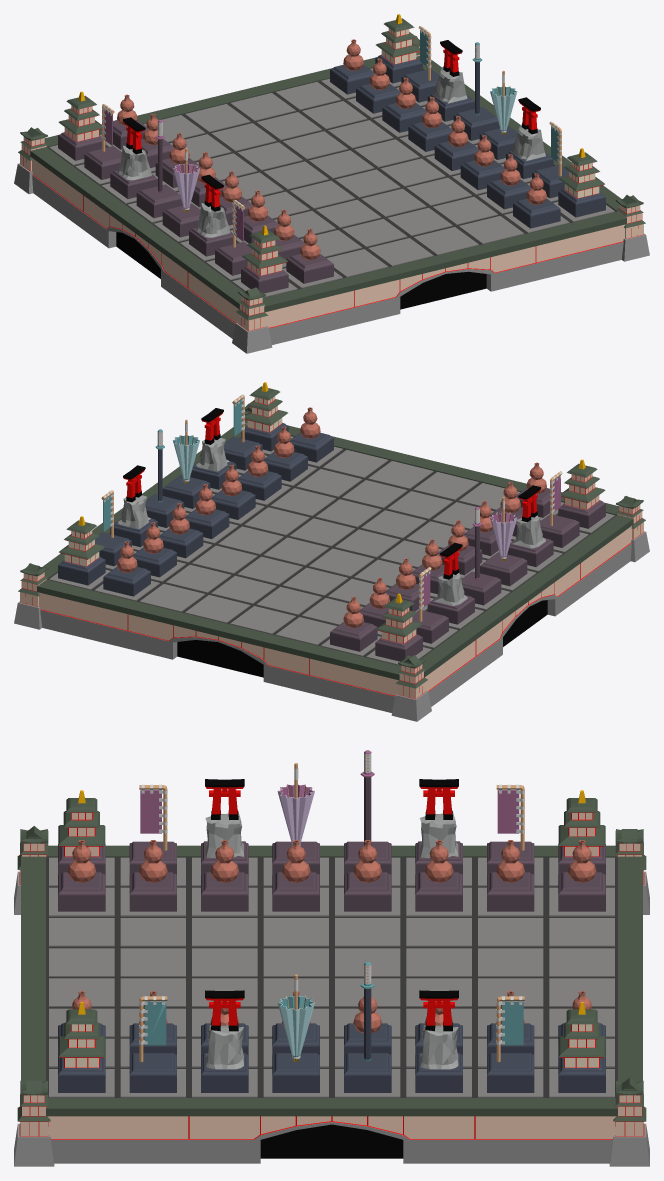
The model's file is FinalBoard(FinalBoard).fbx.
3 views of the same model, one above another, from view 1: azimuth 30°, elevation 25°; view 2: azimuth 150°, elevation 25°; view 3: azimuth 270°, elevation 25° (orthographic). The views are drawn at different scales.
Parts seen in each view (by area): view 1: Board, Gourd, Gourd.001, Pagoda.001, Pagoda, Torii.001, Torii, WarBanner.001, WarBanner, Umbrella.001, Umbrella, StraitShortSword.001 (+1 smaller); view 2: Board, Gourd, Gourd.001, Pagoda.001, Pagoda, Torii.001, Torii, WarBanner.001, WarBanner, Umbrella.001, Umbrella, StraitShortSword.001 (+1 smaller); view 3: Board, Gourd.001, Torii, Pagoda, WarBanner, Gourd, Torii.001, Pagoda.001, WarBanner.001, Umbrella, StraitShortSword, Umbrella.001 (+1 smaller).
Part boxes in pixels (bbox=[...]): Board: bbox=[14, 35, 649, 353]; Gourd: bbox=[330, 39, 560, 228]; Gourd.001: bbox=[113, 94, 333, 283]; Pagoda.001: bbox=[58, 91, 288, 293]; Pagoda: bbox=[375, 14, 605, 217]; Torii.001: bbox=[110, 117, 236, 256]; Torii: bbox=[427, 40, 553, 179]; WarBanner.001: bbox=[84, 104, 251, 275]; WarBanner: bbox=[401, 26, 568, 198]; Umbrella.001: bbox=[162, 148, 200, 237]; Umbrella: bbox=[479, 70, 517, 159]; StraitShortSword.001: bbox=[136, 119, 182, 218]; Board: bbox=[14, 403, 649, 721]; Gourd: bbox=[103, 407, 333, 596]; Gourd.001: bbox=[330, 462, 549, 651]; Pagoda.001: bbox=[375, 459, 605, 661]; Pagoda: bbox=[58, 382, 288, 585]; Torii.001: bbox=[427, 485, 553, 624]; Torii: bbox=[110, 408, 236, 547]; WarBanner.001: bbox=[412, 471, 579, 643]; WarBanner: bbox=[95, 394, 262, 566]; Umbrella.001: bbox=[480, 497, 527, 586]; Umbrella: bbox=[162, 419, 210, 508]; StraitShortSword.001: bbox=[461, 507, 501, 605]; Board: bbox=[14, 826, 649, 1166]; Gourd.001: bbox=[58, 840, 605, 911]; Torii: bbox=[201, 990, 462, 1092]; Pagoda: bbox=[58, 1002, 605, 1092]; WarBanner: bbox=[129, 996, 534, 1092]; Gourd: bbox=[58, 991, 605, 1054]; Torii.001: bbox=[201, 779, 462, 874]; Pagoda.001: bbox=[58, 790, 605, 874]; WarBanner.001: bbox=[129, 784, 534, 874]; Umbrella: bbox=[272, 974, 319, 1092]; StraitShortSword: bbox=[344, 962, 391, 1092]; Umbrella.001: bbox=[272, 763, 319, 874].
Bounding box in the file's own units: 5340 × 1625 × 5340.
